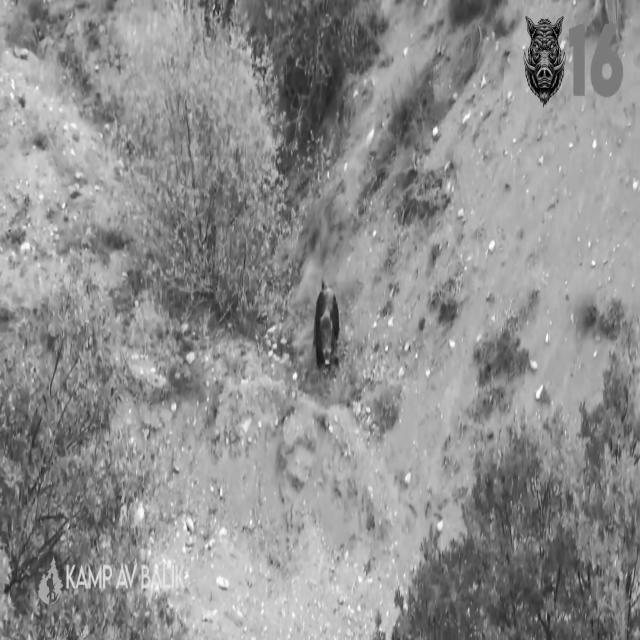boar: (314, 280, 339, 366)
